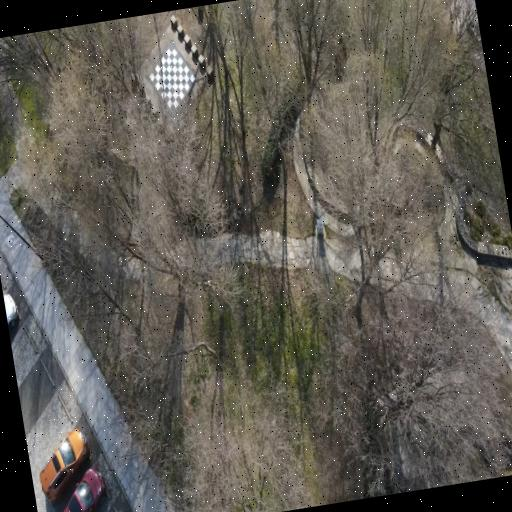harvester: (40, 429, 90, 502), (64, 467, 107, 511), (4, 294, 18, 329)
